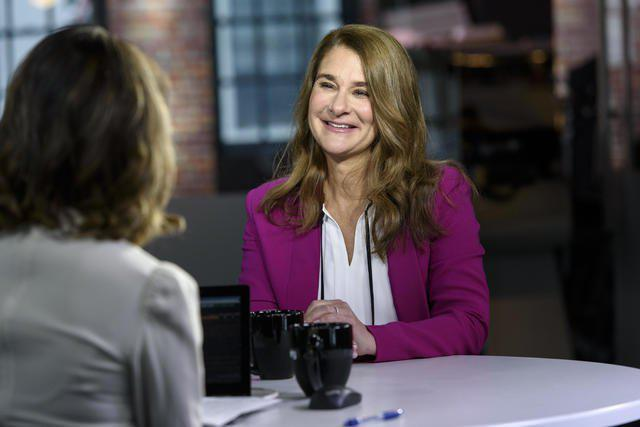Sober: (311, 50, 371, 152)
